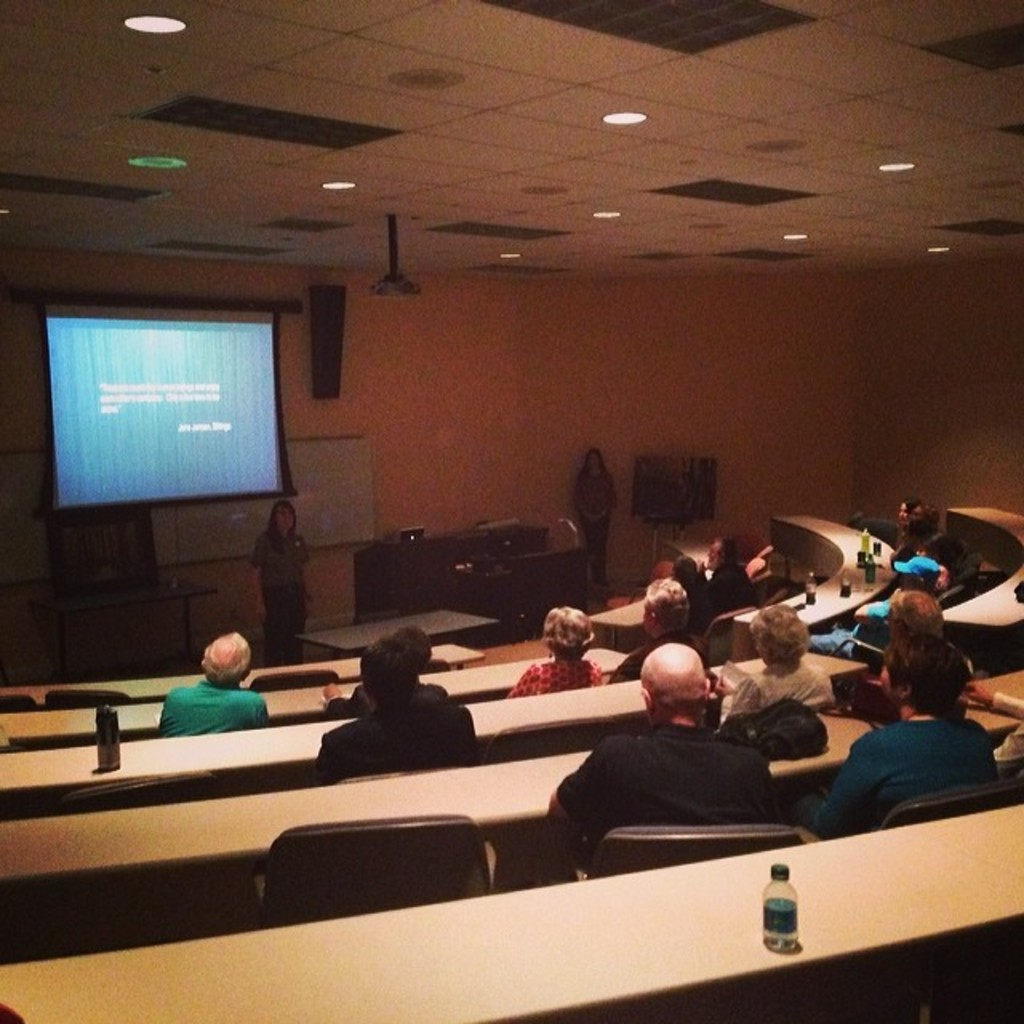Human-face: (275, 504, 291, 531)
